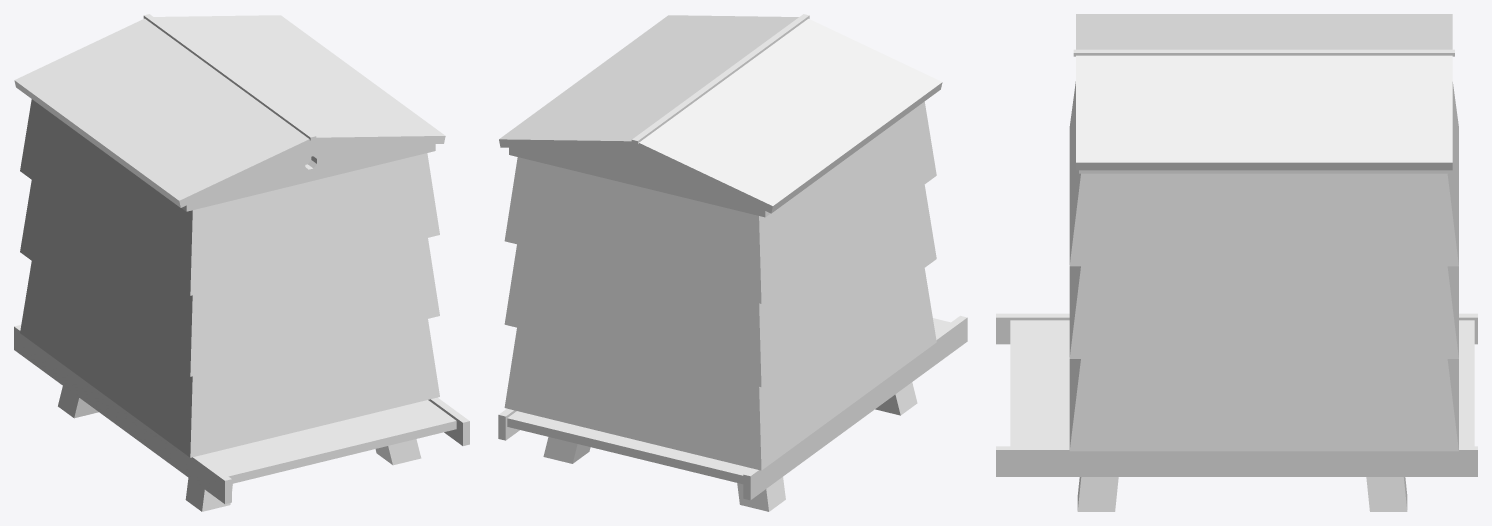
The model's file is Bld_Beehive_02.glb.
3 renders of one model, left to right at view 1: azimuth 30°, elevation 25°; view 2: azimuth 150°, elevation 25°; view 3: azimuth 270°, elevation 25°, orthographic. The views are drawn at different scales.
Parts seen in each view (by area): view 1: Bld_Beehive_02; view 2: Bld_Beehive_02; view 3: Bld_Beehive_02.
Part boxes in pixels (left/top/right/bottom): Bld_Beehive_02: left=14, top=14, right=469, bottom=511; Bld_Beehive_02: left=498, top=14, right=967, bottom=511; Bld_Beehive_02: left=996, top=14, right=1477, bottom=511.
Bounding box in the file's own units: 0.6905 × 0.8658 × 0.9466.
1 material, 1 textured.
